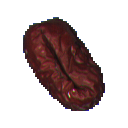ng: (17, 14, 113, 116)
